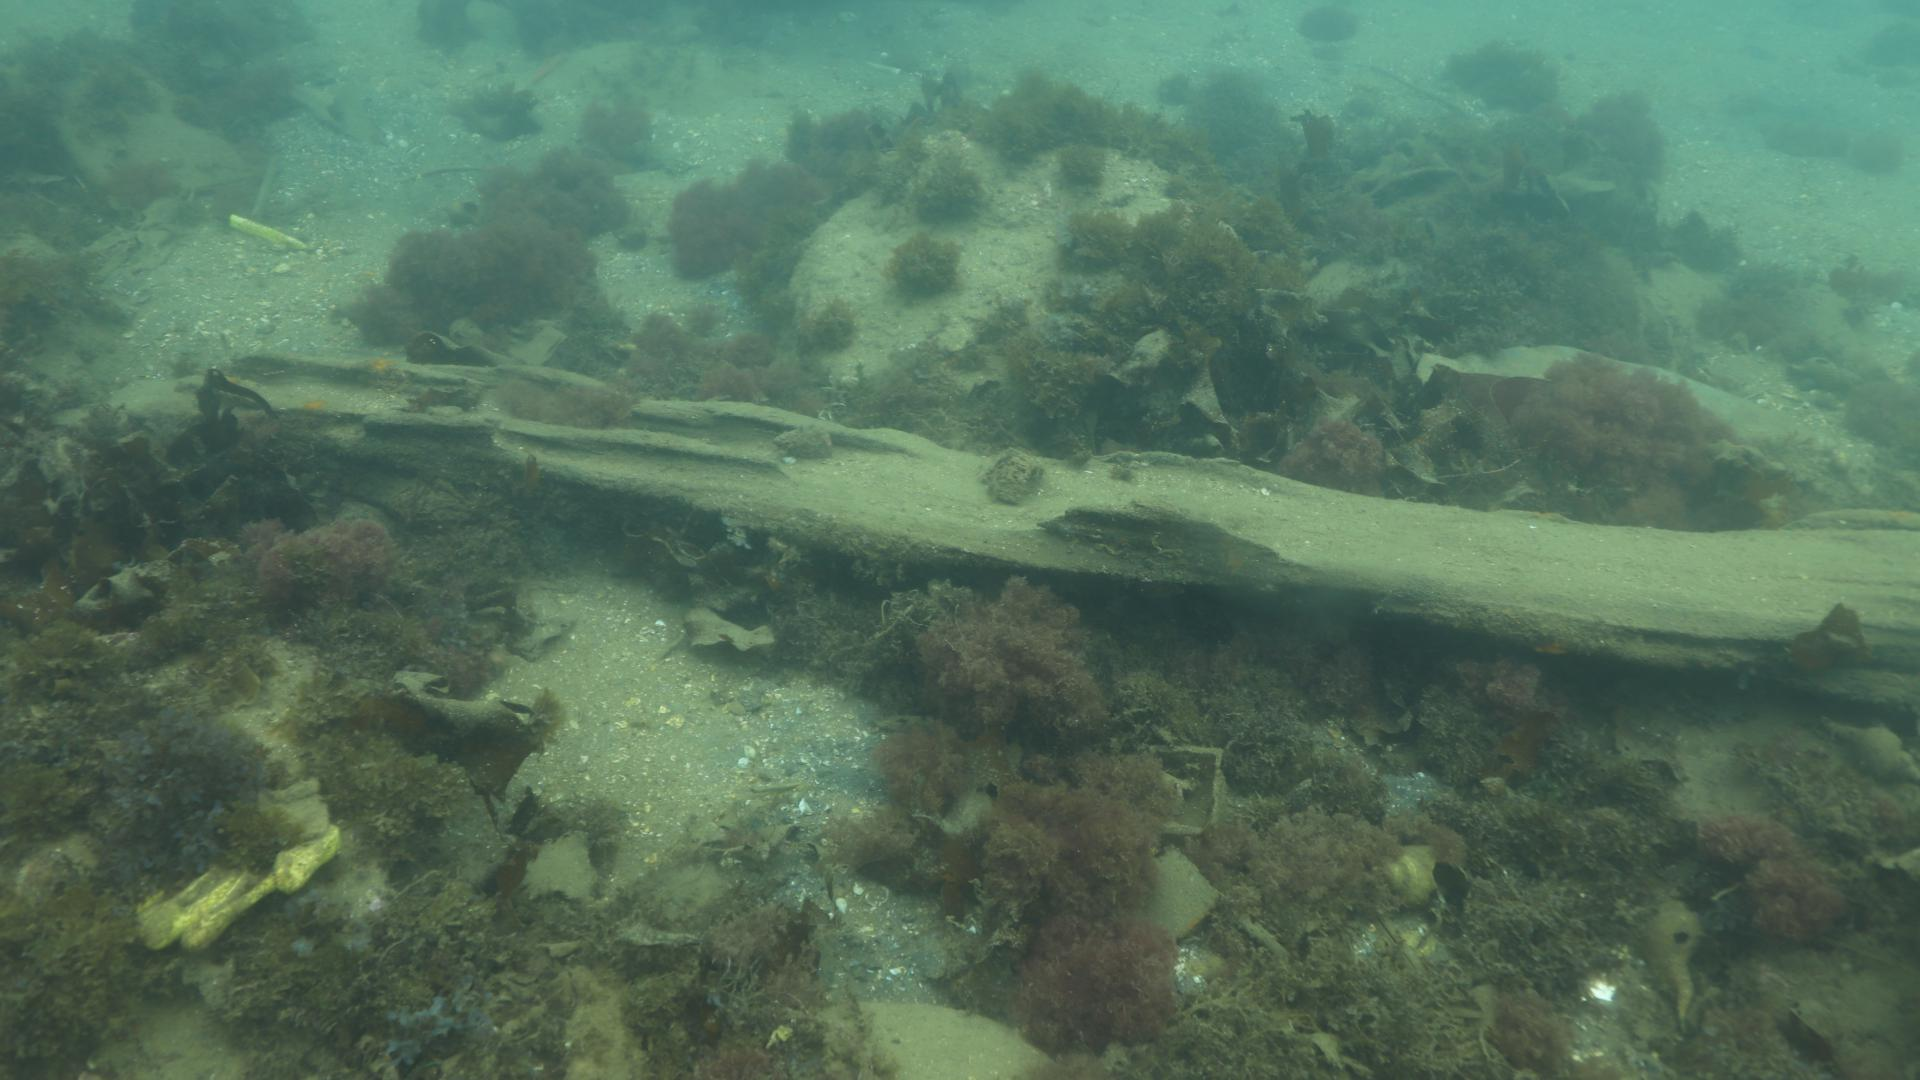wood: (49, 328, 1920, 709)
